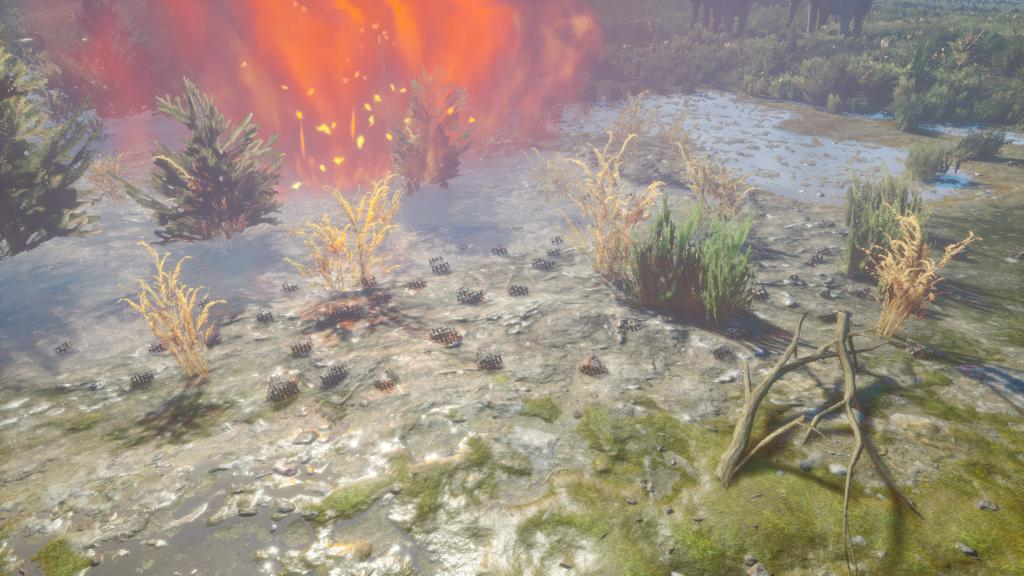Fire: (13, 0, 619, 188)
